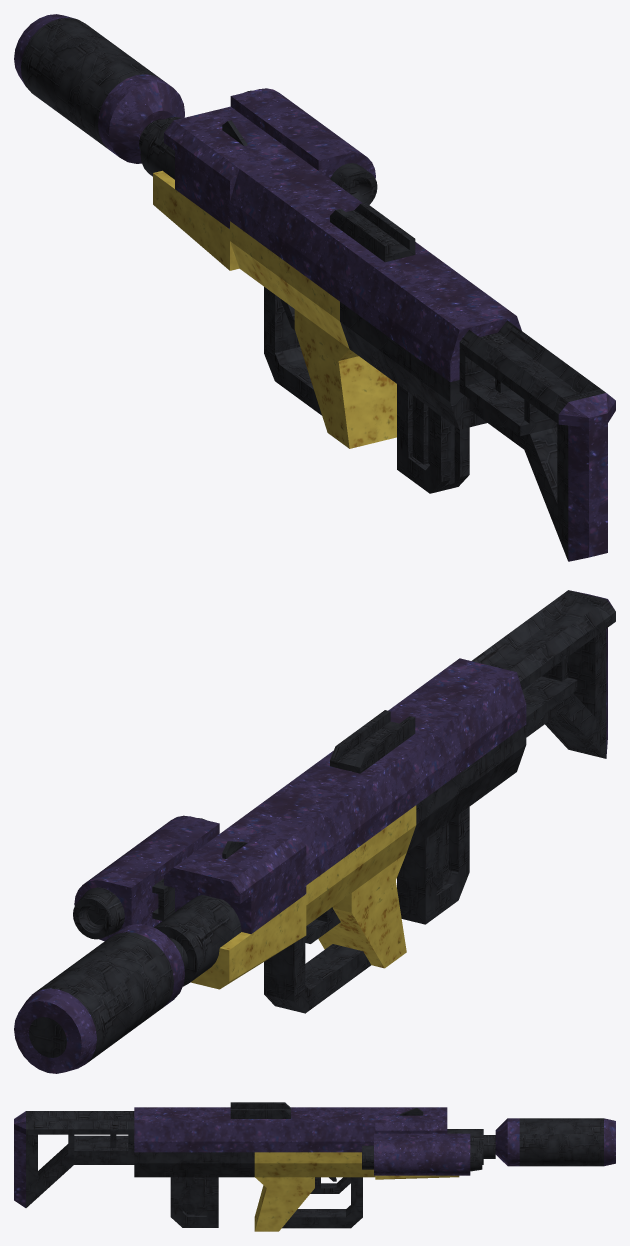
File: smg1.glb
3 views of the same model, one above another, from view 1: azimuth 30°, elevation 25°; view 2: azimuth 150°, elevation 25°; view 3: azimuth 270°, elevation 25° (orthographic). The views are drawn at different scales.
Visible parts, largest first — view 1: mediumBlaster_handleGuard, stock_stealth, mediumBlaster_center, attachment_silencer, blaster_barrel, scope_small, clip_small, detailRail_front; view 2: mediumBlaster_handleGuard, blaster_barrel, mediumBlaster_center, attachment_silencer, stock_stealth, scope_small, clip_small, detailRail_front, detailRail; view 3: mediumBlaster_handleGuard, mediumBlaster_center, stock_stealth, attachment_silencer, scope_small, blaster_barrel, clip_small, detailRail_front.
Boxes of the visible parts, bbox=[...] form: mediumBlaster_handleGuard: bbox=[230, 155, 396, 448]; stock_stealth: bbox=[459, 320, 615, 561]; mediumBlaster_center: bbox=[340, 242, 521, 429]; attachment_silencer: bbox=[14, 14, 184, 163]; blaster_barrel: bbox=[139, 106, 296, 270]; scope_small: bbox=[230, 88, 377, 204]; clip_small: bbox=[397, 384, 469, 493]; detailRail_front: bbox=[330, 202, 415, 262]; mediumBlaster_handleGuard: bbox=[240, 749, 416, 1013]; blaster_barrel: bbox=[154, 819, 306, 989]; mediumBlaster_center: bbox=[388, 658, 526, 851]; attachment_silencer: bbox=[14, 924, 184, 1073]; stock_stealth: bbox=[472, 590, 615, 758]; scope_small: bbox=[73, 815, 219, 941]; clip_small: bbox=[397, 807, 469, 924]; detailRail_front: bbox=[330, 710, 415, 773]; detailRail: bbox=[152, 878, 174, 920]; mediumBlaster_handleGuard: bbox=[254, 1107, 375, 1231]; mediumBlaster_center: bbox=[134, 1107, 254, 1177]; stock_stealth: bbox=[14, 1111, 134, 1207]; attachment_silencer: bbox=[495, 1118, 615, 1166]; scope_small: bbox=[362, 1133, 482, 1175]; blaster_barrel: bbox=[375, 1107, 495, 1179]; clip_small: bbox=[170, 1177, 218, 1227]; detailRail_front: bbox=[230, 1102, 290, 1118].
Bounding box in the file's own units: 0.76 × 1.08 × 5.
Materials: 22 (22 with a texture image).
